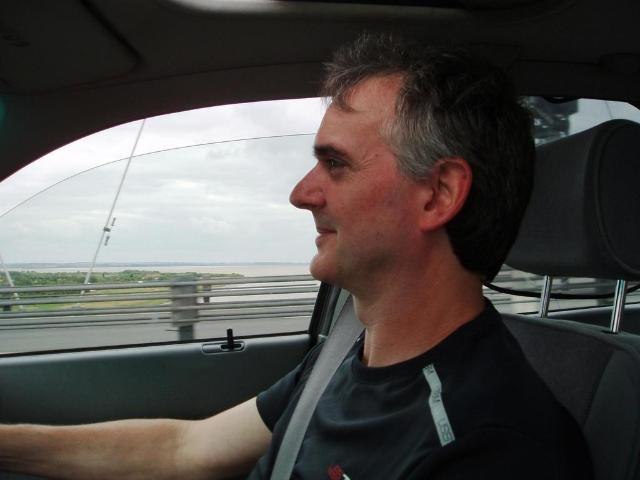Seatbelt: (272, 291, 368, 479)
